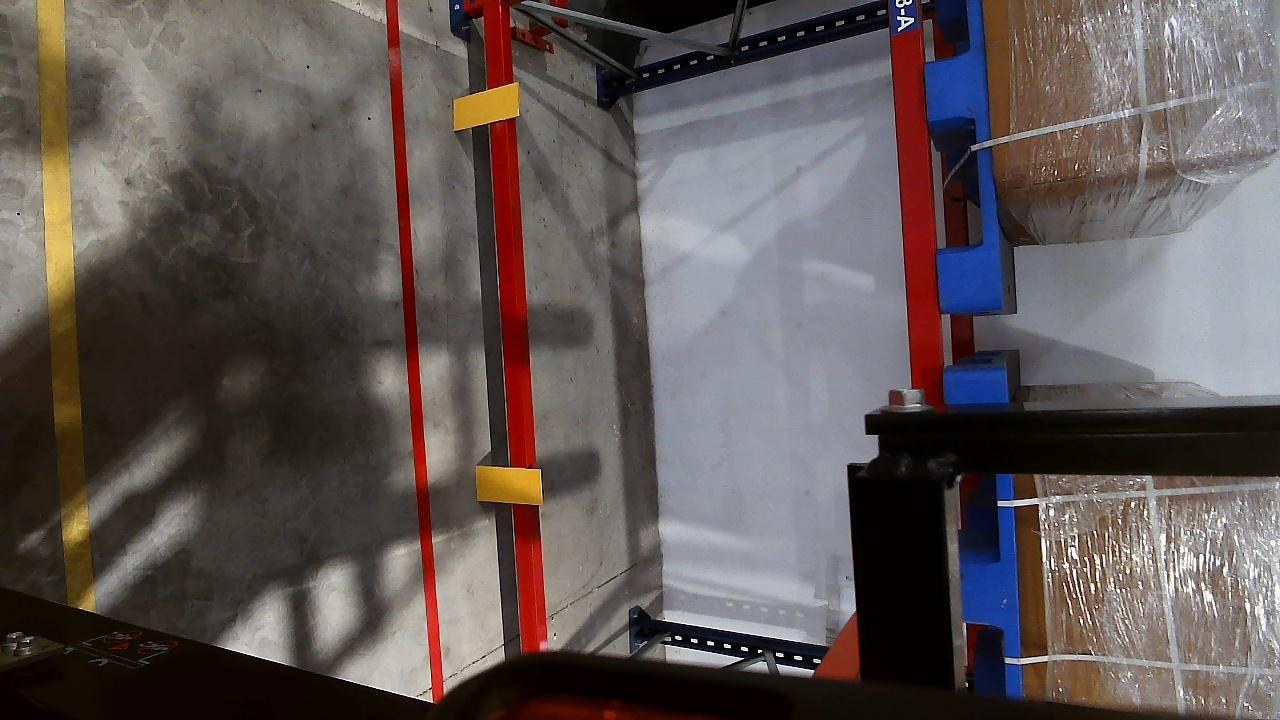h_rack: (484, 3, 547, 651), (884, 1, 949, 424)
orange_strip: (452, 83, 521, 129), (476, 466, 543, 505)
red_line: (376, 0, 447, 693)
small_pallet: (915, 0, 1009, 307), (948, 367, 1020, 700)
yellow_line: (24, 0, 103, 606)
